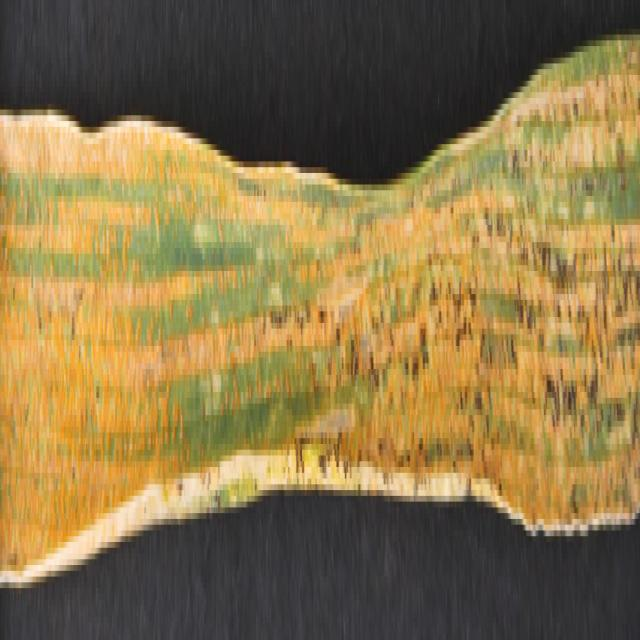leaf rust: (1, 63, 640, 560)
